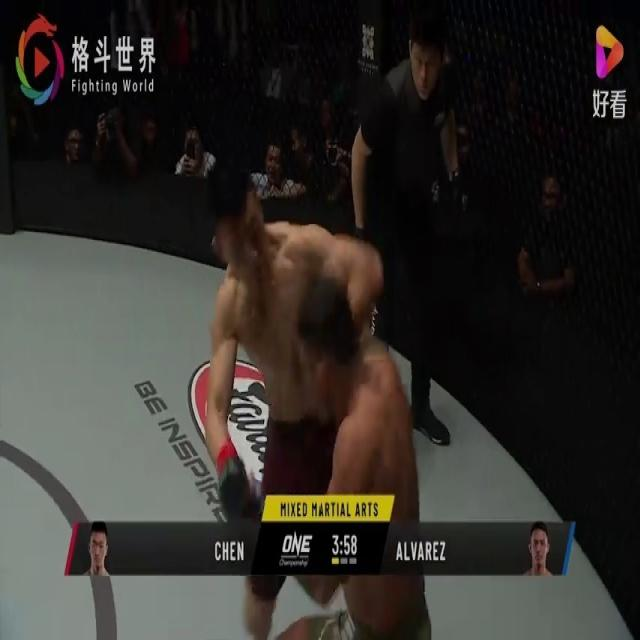fight: (202, 144, 432, 640)
non-fight: (354, 11, 465, 444)
